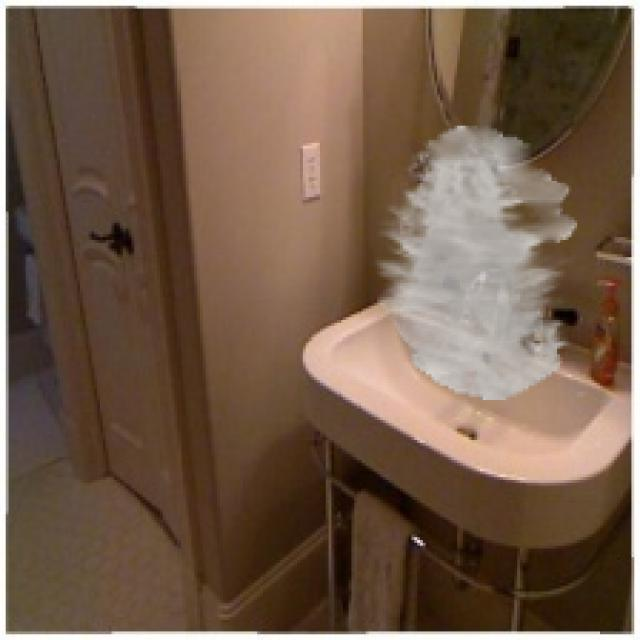smoke: (374, 126, 577, 400)
